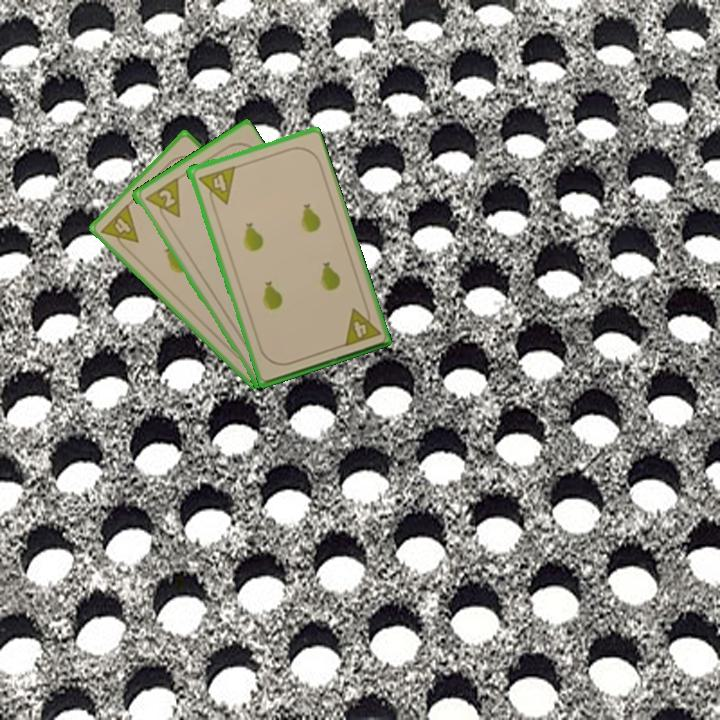2p: (141, 175, 183, 226)
4p: (97, 200, 142, 255), (340, 300, 383, 349), (194, 163, 237, 210)
